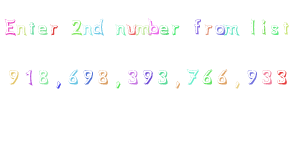,: (52, 78, 65, 92), (112, 78, 124, 93), (171, 79, 184, 92), (233, 80, 243, 93)
1: (25, 65, 37, 88)
2: (67, 14, 82, 39)
3: (258, 66, 276, 88), (277, 67, 292, 88), (127, 67, 140, 88), (157, 67, 170, 88)
6: (201, 66, 215, 87), (217, 66, 230, 88), (67, 67, 81, 87)
7: (186, 63, 199, 89)
8: (37, 67, 52, 86), (96, 69, 111, 87)
9: (4, 66, 23, 88), (141, 66, 154, 90), (82, 66, 96, 88), (245, 66, 257, 86)
E: (3, 14, 16, 41)
b: (149, 15, 158, 39)
d: (93, 14, 107, 40)
e: (159, 19, 170, 40), (38, 21, 47, 38)
f: (191, 15, 204, 39)
i: (259, 16, 269, 37)
l: (247, 15, 259, 39)
m: (224, 21, 242, 38), (136, 17, 148, 39)
n: (16, 19, 27, 38), (114, 21, 126, 38), (82, 22, 94, 38)
o: (212, 19, 224, 37)
r: (48, 20, 60, 39), (170, 20, 182, 38), (203, 22, 214, 38)
s: (269, 22, 281, 37)
t: (26, 16, 38, 38), (281, 18, 293, 36)
u: (126, 20, 137, 41)
